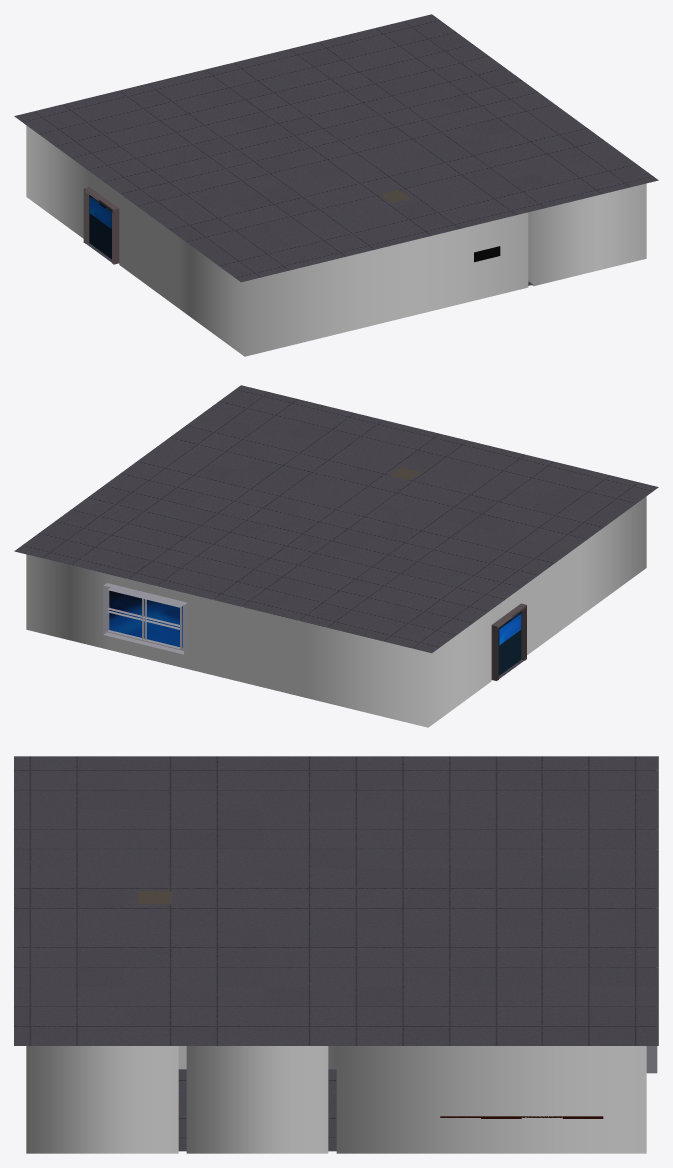
File: level_office.fbx
3 renders of one model, top to bottom at view 1: azimuth 30°, elevation 25°; view 2: azimuth 150°, elevation 25°; view 3: azimuth 270°, elevation 25°, orthographic. The views are drawn at different scales.
Visible parts, largest first — view 1: roof, walls, entrydoor; view 2: roof, walls, window, entrydoor; view 3: roof, walls, floor.
Part boxes in pixels (box(x1,y1,x2,y2)): roof: box(14, 14, 658, 282); walls: box(26, 125, 646, 356); entrydoor: box(83, 187, 119, 264); roof: box(14, 385, 658, 653); walls: box(26, 496, 646, 727); window: box(103, 583, 187, 654); entrydoor: box(491, 603, 526, 680); roof: box(14, 756, 658, 1045); walls: box(26, 1046, 646, 1153); floor: box(178, 1069, 336, 1151).
Size of what is drawn, in the model's own units: 1768 by 328 by 1664.
3 materials, 2 textured.
